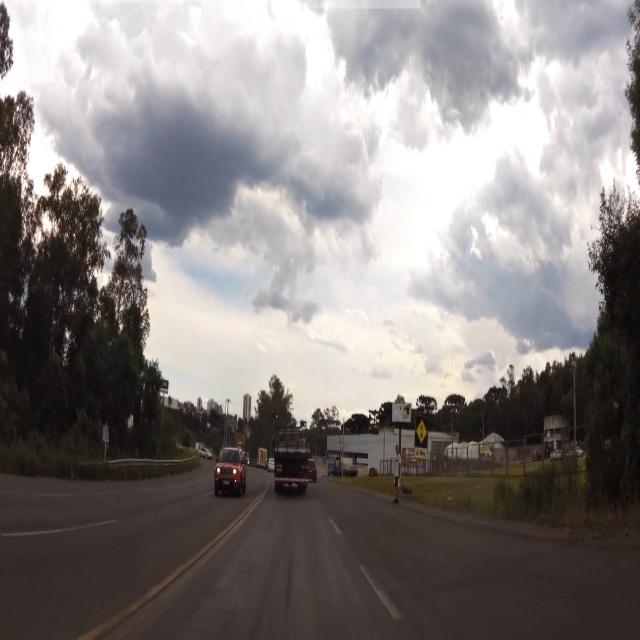A-14: (416, 419, 428, 443)
